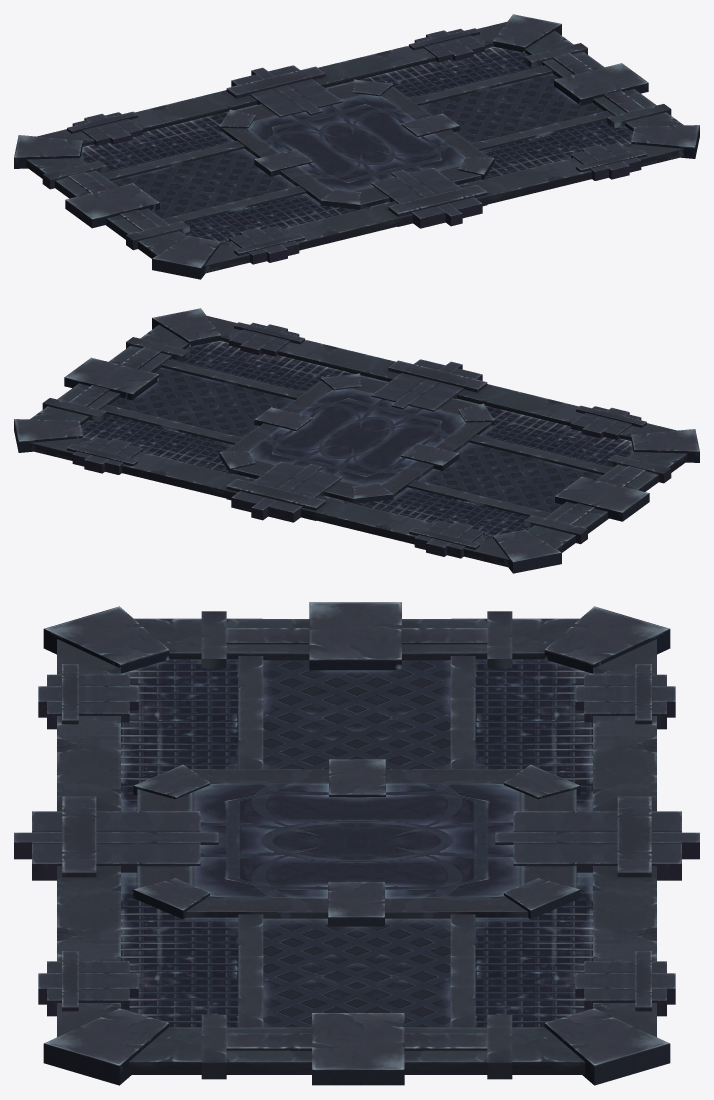
Rendered from Beidaying_yzdi.FBX.
3 renders of one model, top to bottom at view 1: azimuth 30°, elevation 25°; view 2: azimuth 150°, elevation 25°; view 3: azimuth 270°, elevation 25°, orthographic. The views are drawn at different scales.
Visible parts, largest first — view 1: Beidaying_yzdi; view 2: Beidaying_yzdi; view 3: Beidaying_yzdi.
Boxes of the visible parts, x1,y1,x2,y2 form: Beidaying_yzdi: (14, 14, 699, 279); Beidaying_yzdi: (14, 308, 699, 573); Beidaying_yzdi: (14, 602, 699, 1085).
Bounding box in the file's own units: 211 × 131 × 4.86.
1 material, 1 textured.
